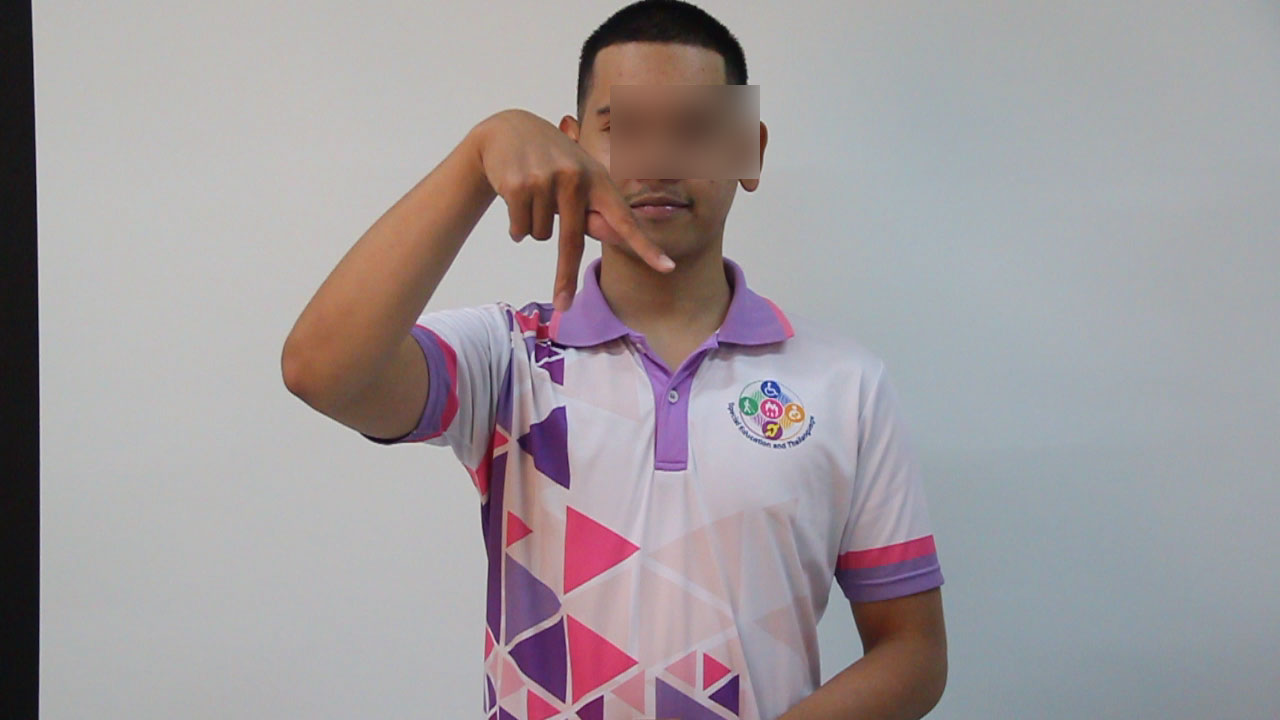por: (456, 81, 684, 319)
